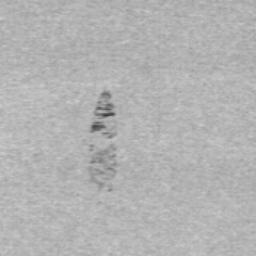Secondary rust skin: (89, 90, 117, 134), (88, 143, 120, 175)
